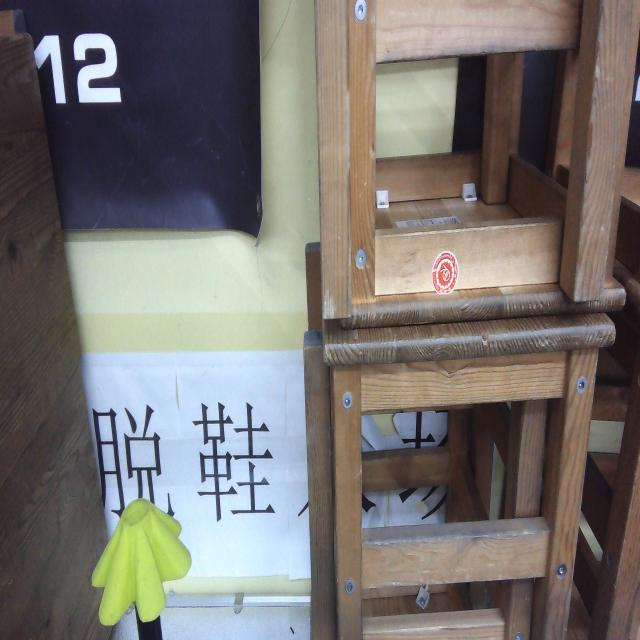Yellow-Stake-Head: (91, 498, 192, 626)
